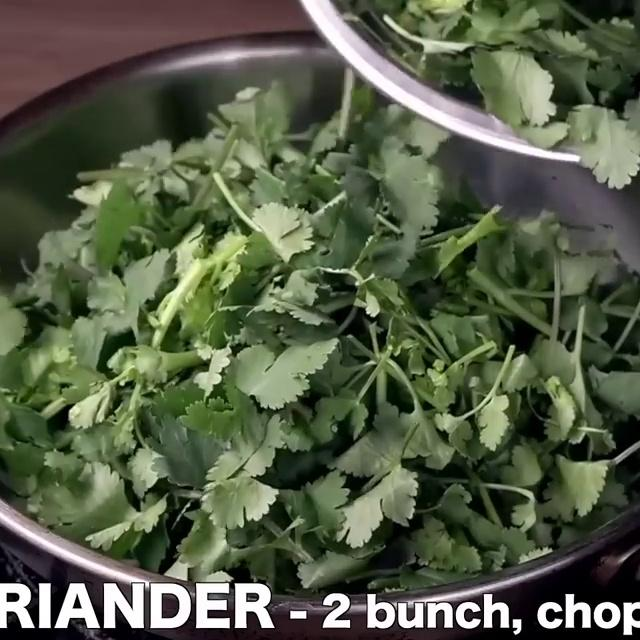cilantro: (0, 125, 640, 575), (395, 0, 640, 148)
